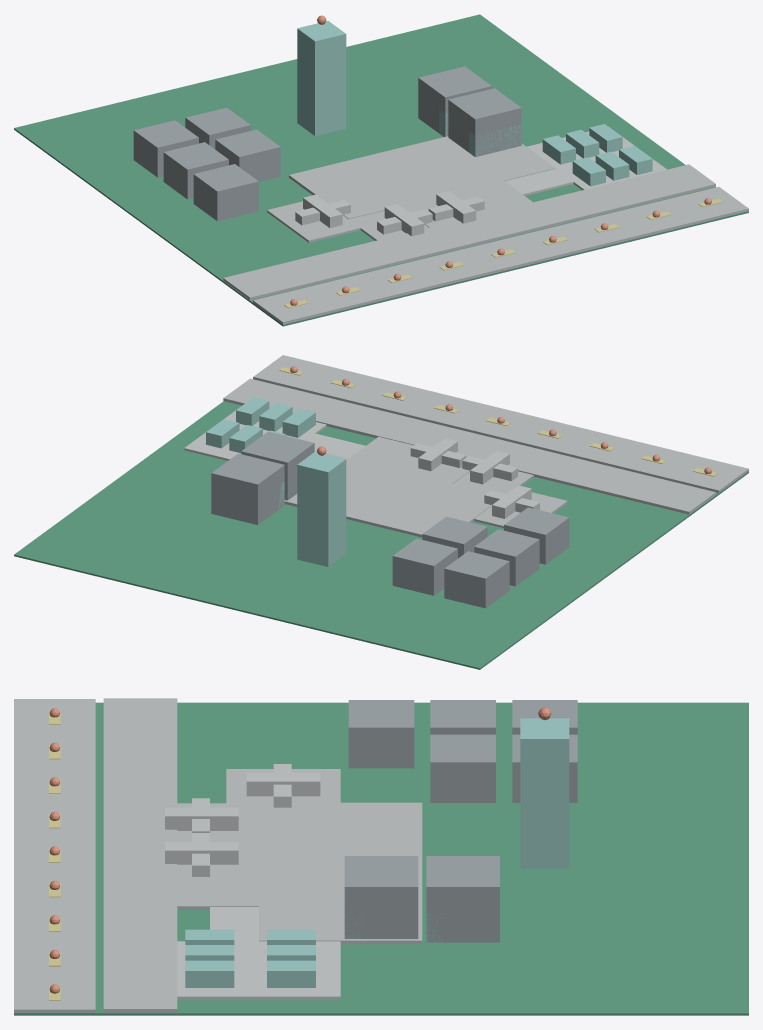
File: stage_19.glb
3 views of the same model, one above another, from view 1: azimuth 30°, elevation 25°; view 2: azimuth 150°, elevation 25°; view 3: azimuth 270°, elevation 25° (orthographic). The views are drawn at different scales.
Parts seen in each view (by area): view 1: geometry_0; view 2: geometry_0; view 3: geometry_0.
Part boxes in pixels (bbox=[...]): geometry_0: bbox=[14, 14, 748, 326]; geometry_0: bbox=[14, 355, 748, 669]; geometry_0: bbox=[14, 698, 748, 1015].
Bounding box in the file's own units: 9 × 2.06 × 9.
